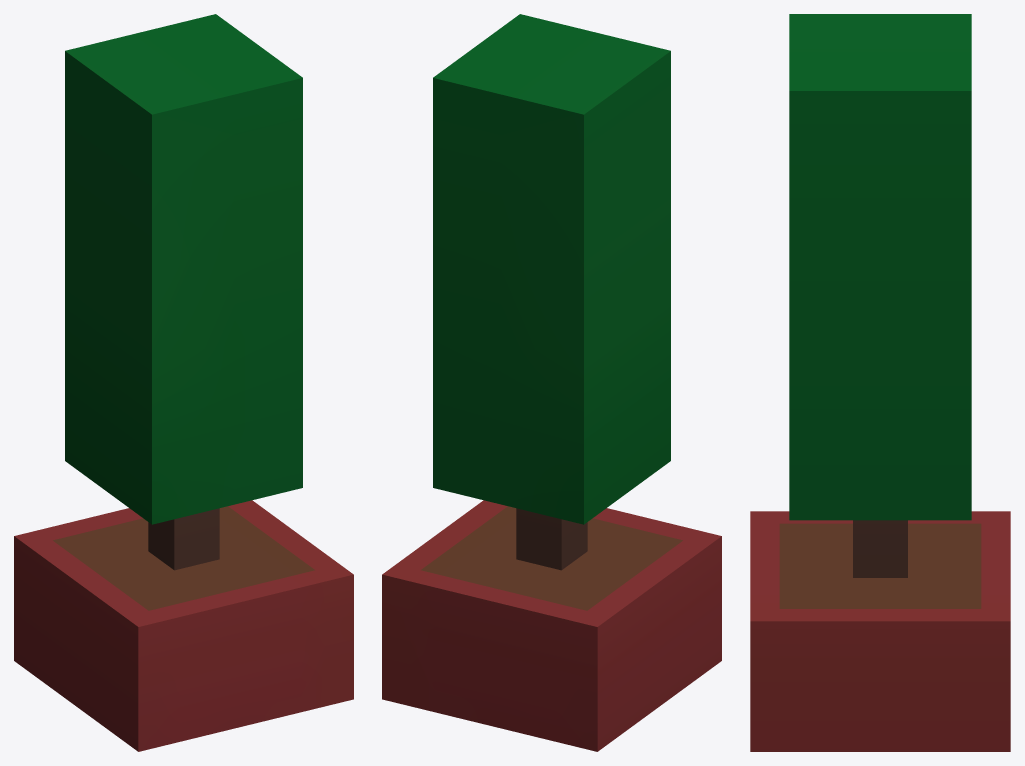
Rendered from cottage tree 2.fbx.
3 views of the same model, side by side, from view 1: azimuth 30°, elevation 25°; view 2: azimuth 150°, elevation 25°; view 3: azimuth 270°, elevation 25° (orthographic). The views are drawn at different scales.
Visible parts, largest first — view 1: cottage tree 2; view 2: cottage tree 2; view 3: cottage tree 2.
Part boxes in pixels (<box>): cottage tree 2: <box>14,14,353,751</box>; cottage tree 2: <box>382,14,721,751</box>; cottage tree 2: <box>750,14,1010,751</box>.
Bounding box in the file's own units: 51.15 × 140 × 51.15.
Materials: 1 (1 with a texture image).
